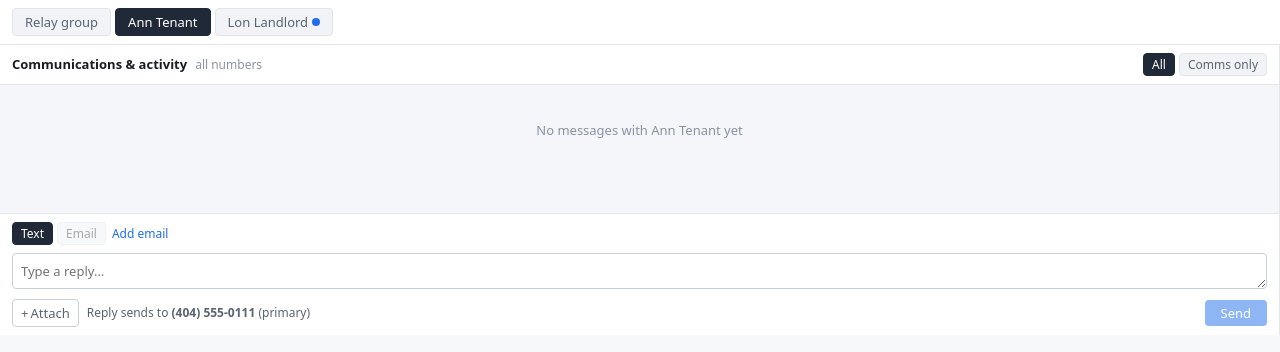
Test: TourConversation - 1:1 mark-read gates › a contact whose record FAILED to load never fans out (dead-end tab, unread kept)
Click the tab "Lon Landlord" at [274, 22], box top-left (214, 8), bottom-right (333, 36)
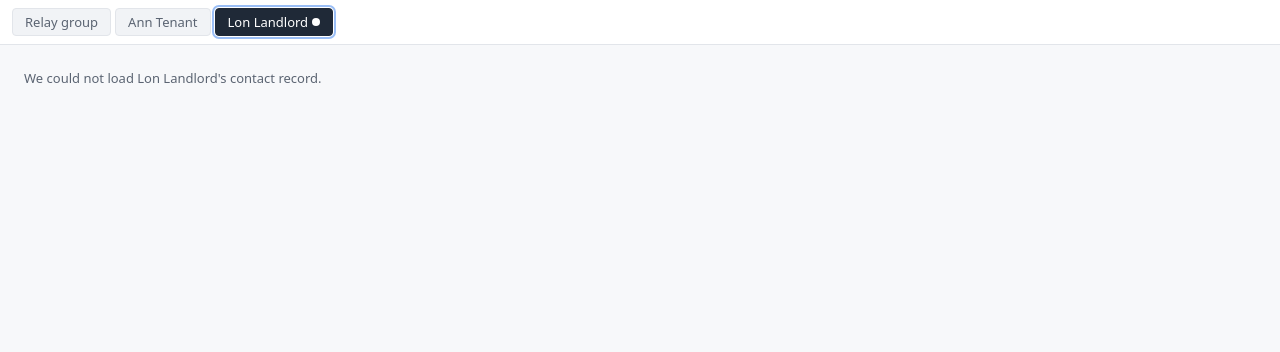
Expected: the field labelled "Reply message" is not shown
Now the text "We could not load Lon Landlord's contact record." is shown, box top-left (24, 69), bottom-right (322, 88)
